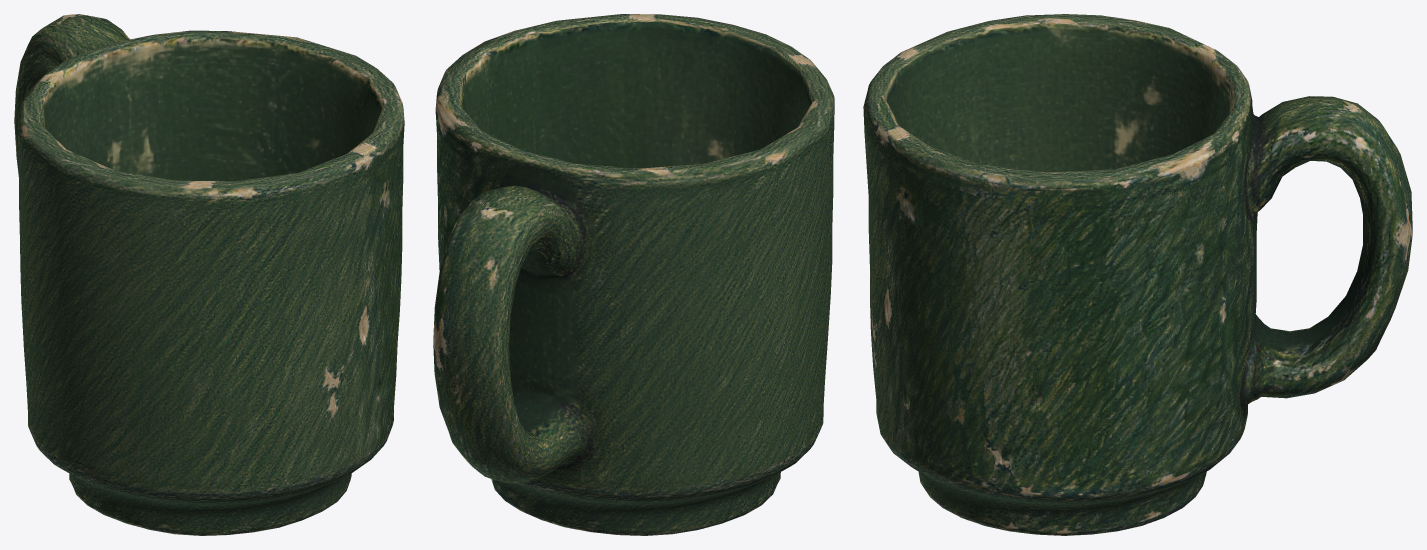
Rendered from GreenMug.fbx.
3 renders of one model, left to right at view 1: azimuth 30°, elevation 25°; view 2: azimuth 150°, elevation 25°; view 3: azimuth 270°, elevation 25°, orthographic. The views are drawn at different scales.
Visible parts, largest first — view 1: tripo_node_405d668c-f2c7-460c-ad7e-522581b6953d; view 2: tripo_node_405d668c-f2c7-460c-ad7e-522581b6953d; view 3: tripo_node_405d668c-f2c7-460c-ad7e-522581b6953d.
Boxes of the visible parts, left/top/right/bottom form: tripo_node_405d668c-f2c7-460c-ad7e-522581b6953d: left=14, top=14, right=404, bottom=535; tripo_node_405d668c-f2c7-460c-ad7e-522581b6953d: left=433, top=14, right=834, bottom=535; tripo_node_405d668c-f2c7-460c-ad7e-522581b6953d: left=863, top=14, right=1412, bottom=535.
Bounding box in the file's own units: 73.19 × 76.71 × 100.
1 material, 1 textured.
